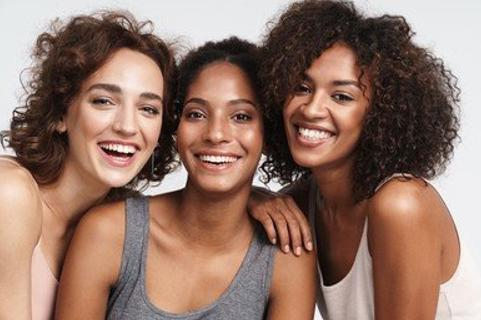Sober: (178, 77, 258, 182), (84, 60, 157, 175), (285, 54, 361, 162)
